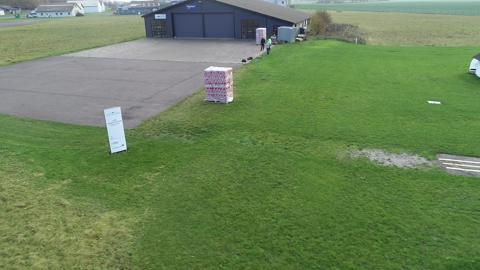RockwoolPallet: (255, 27, 267, 46)
